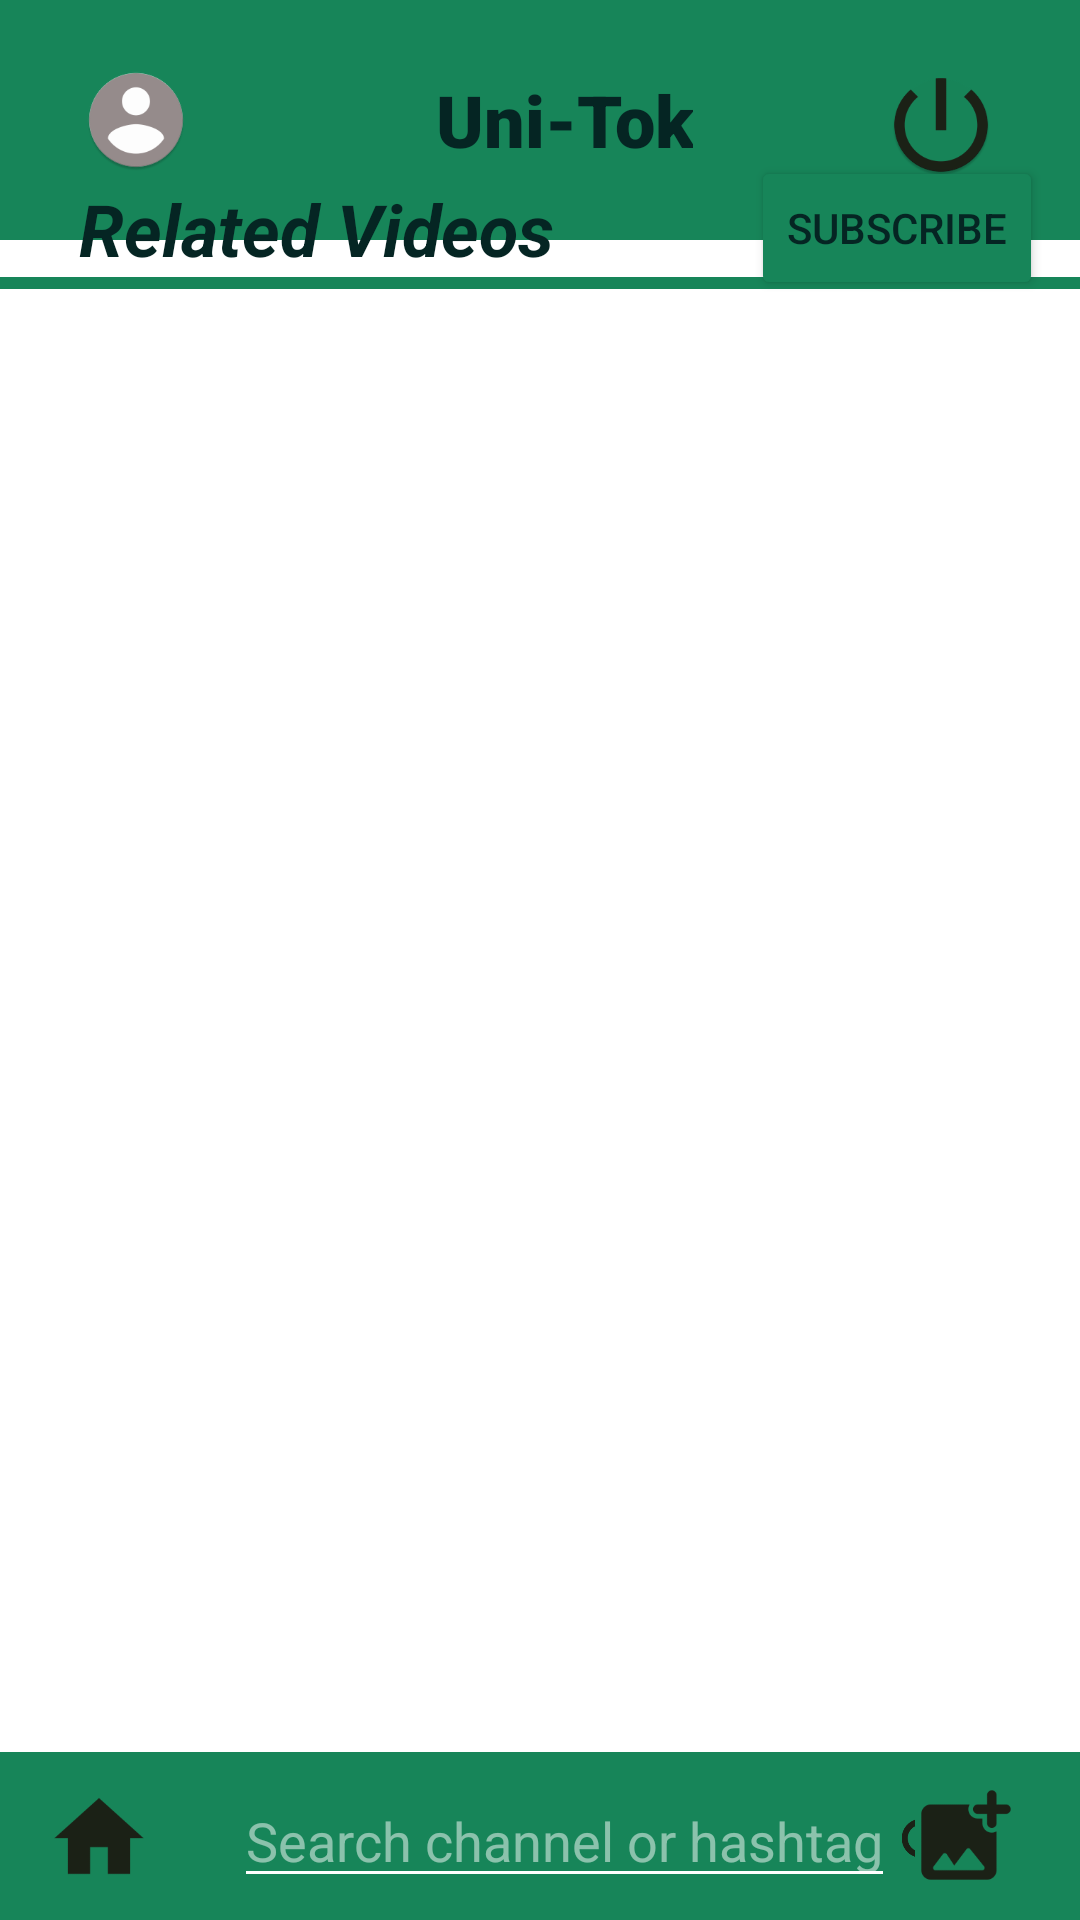

Icons on this 1080px x 1920px Android screen, each with the point to tap as (x=x, y=y):
exit: (x=941, y=126)
home page: (x=99, y=1836)
profile: (x=136, y=120)
